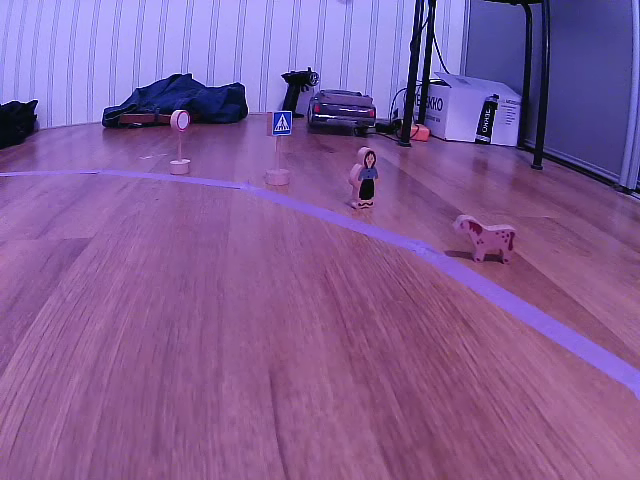mens: (350, 145, 378, 210)
paard: (452, 215, 519, 265)
wegdicht: (171, 108, 191, 133)
zebrapad: (267, 110, 294, 138)
